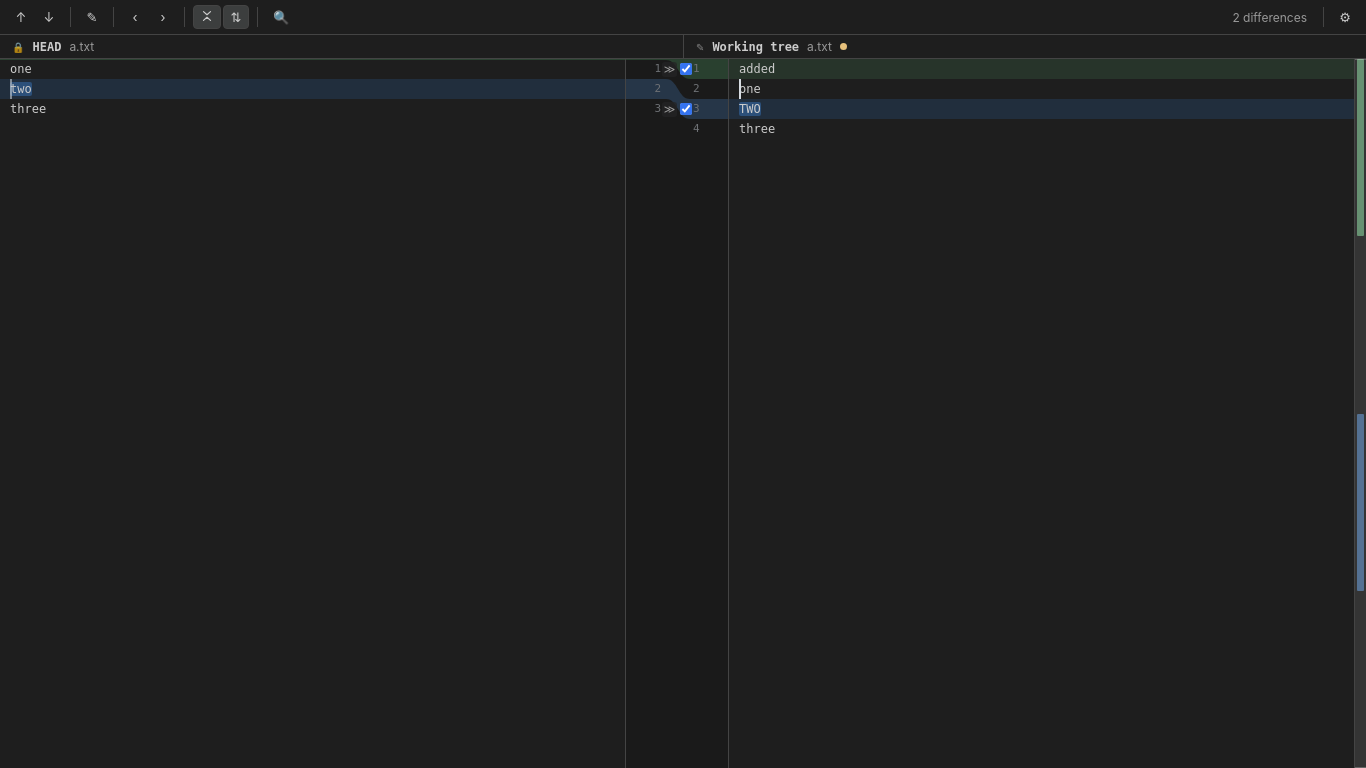
Test: Edit source › opens nothing when that save fails, and says why
What coordinates should you click on to do the following:
click the button named "Edit source"
I would click on:
 (92, 17)
Its box is [79, 5, 105, 29].
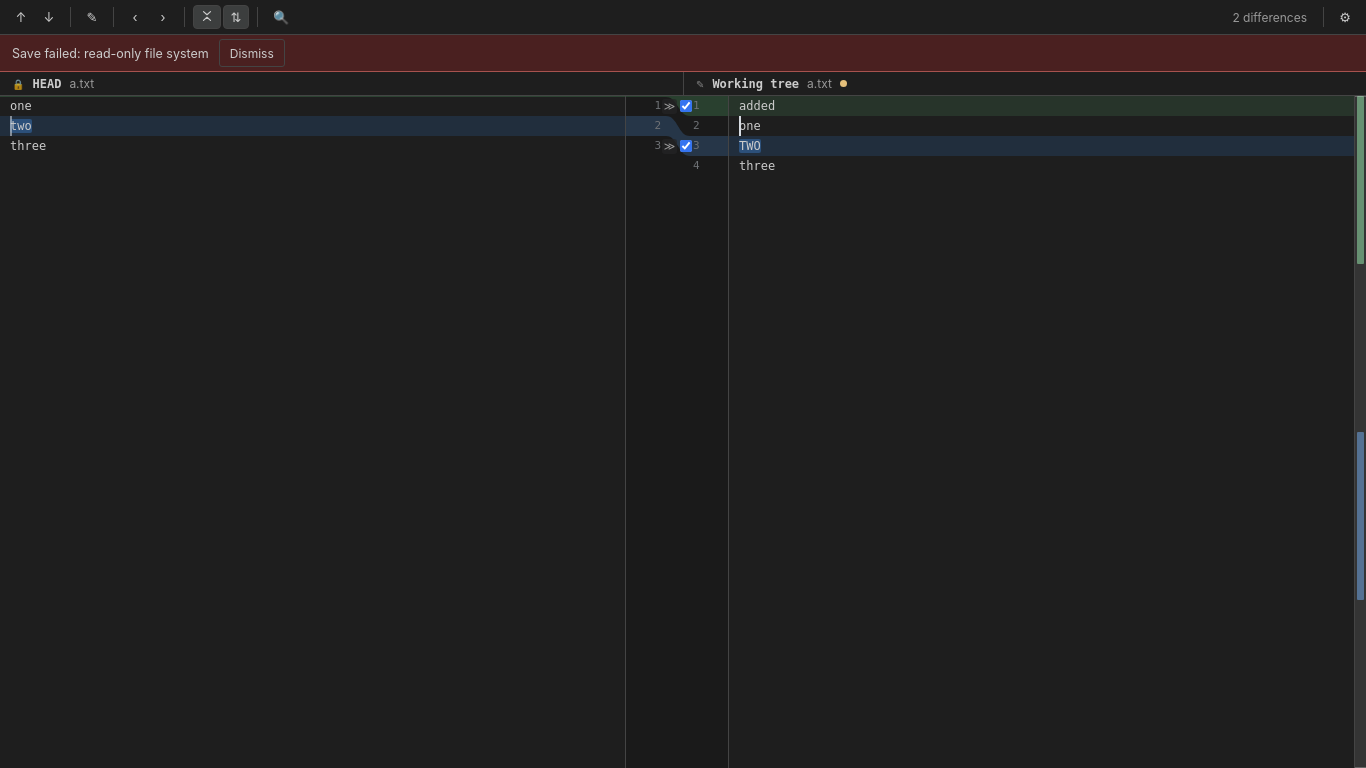
Expected: the text "Save failed: read-only file system" is shown, [12, 46, 209, 60]
